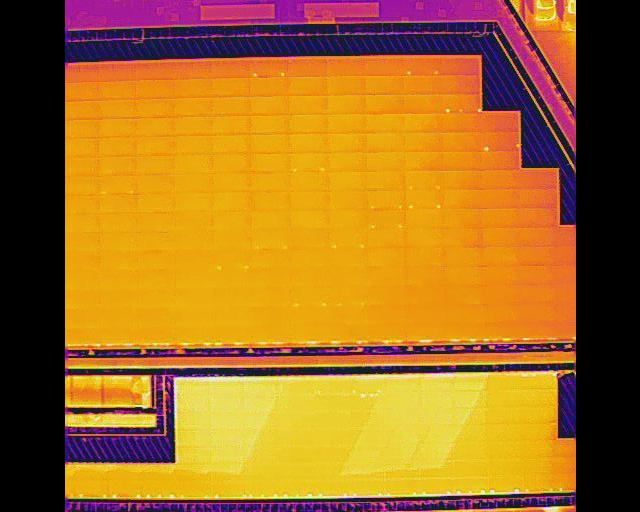Cell-Multi: (96, 175, 137, 196), (212, 249, 251, 270), (287, 153, 327, 173), (327, 229, 365, 250), (251, 229, 289, 250), (480, 133, 519, 153), (366, 210, 405, 230), (287, 289, 327, 308), (365, 191, 405, 210), (440, 94, 479, 113), (403, 191, 442, 210), (404, 171, 442, 190), (248, 59, 286, 78), (402, 58, 441, 76)
No-Anomaly: (288, 250, 329, 271), (96, 137, 137, 158), (212, 269, 252, 290), (365, 229, 406, 249), (364, 285, 405, 305), (132, 99, 173, 119), (444, 284, 483, 305), (288, 229, 327, 250), (365, 171, 404, 192), (95, 80, 134, 101), (136, 251, 175, 272), (482, 301, 519, 323), (441, 209, 481, 229), (478, 113, 518, 133), (364, 94, 404, 114), (287, 115, 327, 135), (95, 118, 135, 138), (134, 155, 174, 175), (135, 213, 175, 233), (250, 174, 290, 194), (405, 285, 443, 306), (481, 170, 519, 191), (519, 301, 557, 322), (136, 193, 174, 214), (483, 282, 519, 304), (441, 151, 480, 171), (442, 171, 481, 191), (481, 209, 520, 229), (288, 172, 327, 192), (326, 114, 365, 134), (327, 172, 366, 192), (327, 153, 366, 173), (482, 247, 521, 267), (97, 214, 136, 234), (98, 271, 137, 291), (97, 195, 136, 215), (404, 113, 443, 133), (98, 252, 137, 272), (134, 79, 173, 99), (173, 155, 212, 175), (173, 308, 212, 328), (211, 154, 250, 174), (172, 98, 211, 118), (249, 96, 288, 116), (250, 192, 289, 212), (365, 249, 406, 268), (402, 133, 443, 152), (210, 211, 251, 230), (175, 250, 212, 271), (251, 250, 288, 271), (442, 248, 482, 267), (403, 94, 441, 114), (441, 190, 481, 209), (442, 132, 480, 152), (287, 77, 327, 96), (288, 269, 328, 288), (365, 133, 403, 153), (366, 266, 404, 286), (403, 75, 441, 95), (98, 156, 136, 176), (98, 290, 136, 310), (134, 175, 174, 194), (135, 136, 173, 156), (136, 271, 174, 291), (135, 232, 175, 251), (174, 212, 212, 232), (173, 270, 211, 290), (212, 288, 252, 307), (210, 193, 250, 212), (211, 96, 249, 116), (249, 115, 287, 135), (481, 228, 520, 247), (481, 190, 520, 209), (327, 191, 366, 210), (327, 210, 366, 229), (365, 114, 404, 133), (97, 310, 136, 329), (135, 117, 174, 136), (173, 136, 212, 155), (211, 135, 250, 154), (211, 174, 250, 193), (212, 230, 251, 249), (249, 154, 288, 173), (287, 96, 326, 115), (519, 209, 556, 229), (483, 265, 520, 285), (173, 79, 210, 99), (174, 193, 211, 213), (212, 307, 253, 325), (440, 75, 478, 94), (404, 152, 442, 171), (405, 266, 443, 285), (442, 113, 480, 132), (327, 77, 365, 96), (326, 96, 364, 115), (365, 76, 403, 95), (96, 62, 134, 81), (95, 99, 133, 118), (404, 210, 442, 229), (99, 233, 137, 252), (136, 310, 174, 329), (249, 135, 287, 154), (249, 78, 287, 97), (173, 117, 211, 136), (173, 175, 211, 194), (210, 60, 248, 79), (211, 117, 249, 136), (210, 78, 248, 97), (172, 60, 210, 79), (442, 229, 482, 247), (287, 135, 327, 153), (288, 324, 328, 342), (520, 171, 556, 191), (407, 248, 444, 267), (289, 192, 326, 211), (328, 249, 365, 268), (136, 290, 173, 309), (175, 231, 212, 250), (444, 304, 483, 322), (364, 322, 403, 340), (288, 307, 327, 325), (325, 58, 364, 76), (133, 62, 172, 80), (212, 324, 251, 342), (172, 290, 211, 308), (250, 211, 289, 229), (64, 175, 97, 196), (405, 304, 443, 322), (443, 321, 481, 339), (520, 228, 556, 247), (288, 211, 326, 229), (327, 135, 365, 153), (521, 247, 557, 266), (520, 320, 556, 339), (251, 271, 287, 290), (328, 286, 362, 306), (364, 305, 404, 322), (287, 60, 327, 77), (64, 233, 98, 253), (366, 153, 403, 171), (520, 266, 557, 284), (404, 229, 441, 247), (483, 319, 518, 338), (252, 307, 287, 326), (444, 267, 483, 284), (480, 152, 519, 169), (363, 59, 402, 76), (519, 285, 558, 302), (64, 195, 97, 215), (519, 190, 555, 208), (405, 322, 443, 339), (440, 58, 478, 75), (64, 272, 98, 291), (252, 289, 286, 308), (64, 119, 97, 138), (64, 310, 97, 329), (64, 214, 97, 233), (329, 306, 363, 324), (328, 323, 362, 341), (329, 269, 365, 286), (64, 253, 98, 271), (64, 291, 98, 309), (98, 328, 136, 344), (64, 138, 96, 157), (64, 82, 96, 101), (64, 157, 97, 175), (174, 328, 213, 343), (64, 64, 96, 82), (64, 101, 96, 119), (252, 326, 288, 342), (64, 328, 97, 345), (137, 329, 172, 343)
